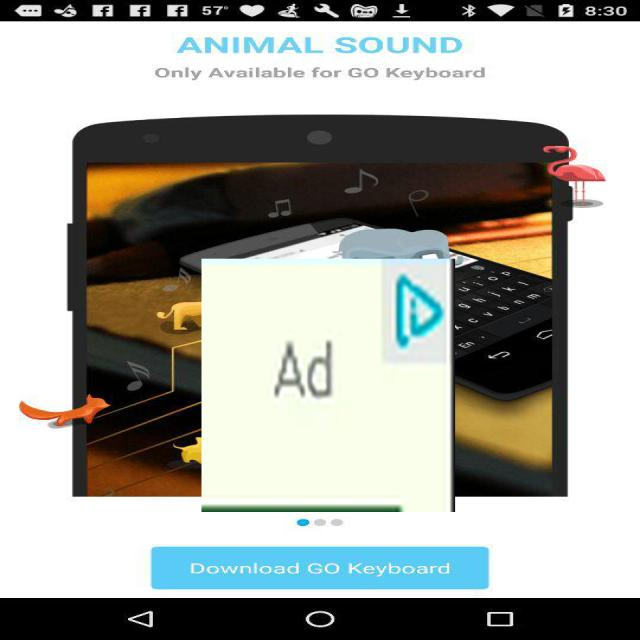sneaking: (202, 259, 455, 512)
